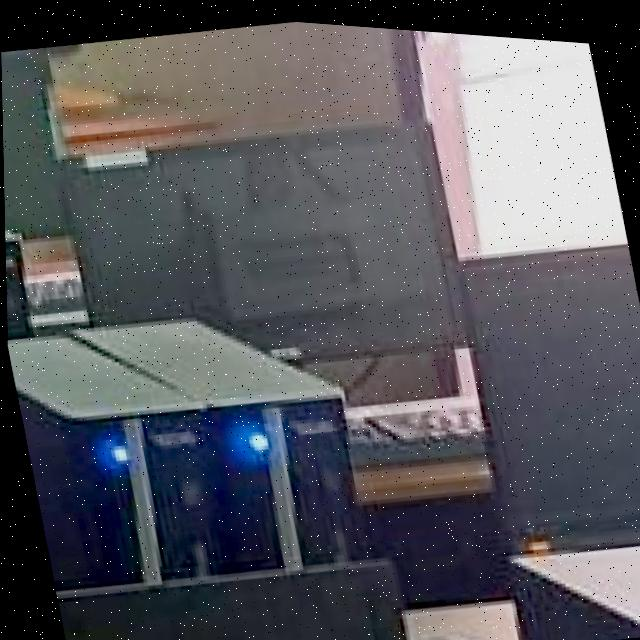offscreen: (67, 115, 455, 354), (452, 233, 640, 539)
